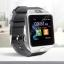watch: (24, 9, 56, 52)
